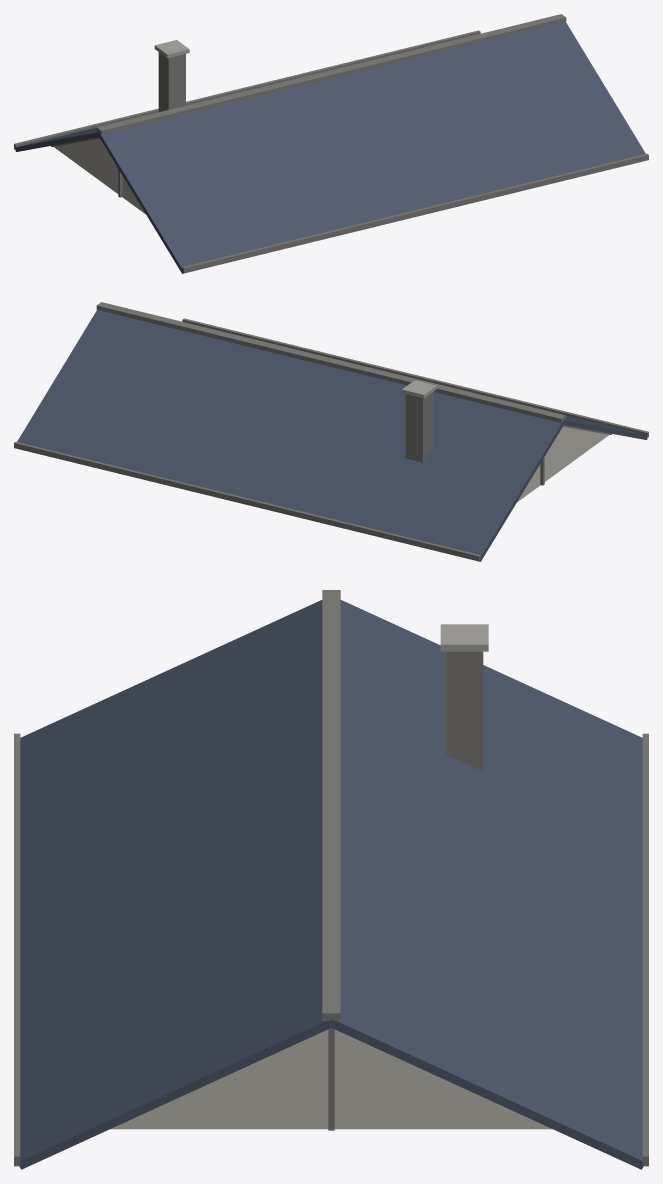
The model's file is roof_keep.glb.
3 views of the same model, one above another, from view 1: azimuth 30°, elevation 25°; view 2: azimuth 150°, elevation 25°; view 3: azimuth 270°, elevation 25° (orthographic). The views are drawn at different scales.
Parts seen in each view (by area): view 1: roof_keep; view 2: roof_keep; view 3: roof_keep.
Boxes of the visible parts, <box> form: roof_keep: <box>14,14,648,273</box>; roof_keep: <box>14,302,648,561</box>; roof_keep: <box>14,590,648,1169</box>.
Size of the model in its own units: 18.8 by 4.37 by 11.92.
